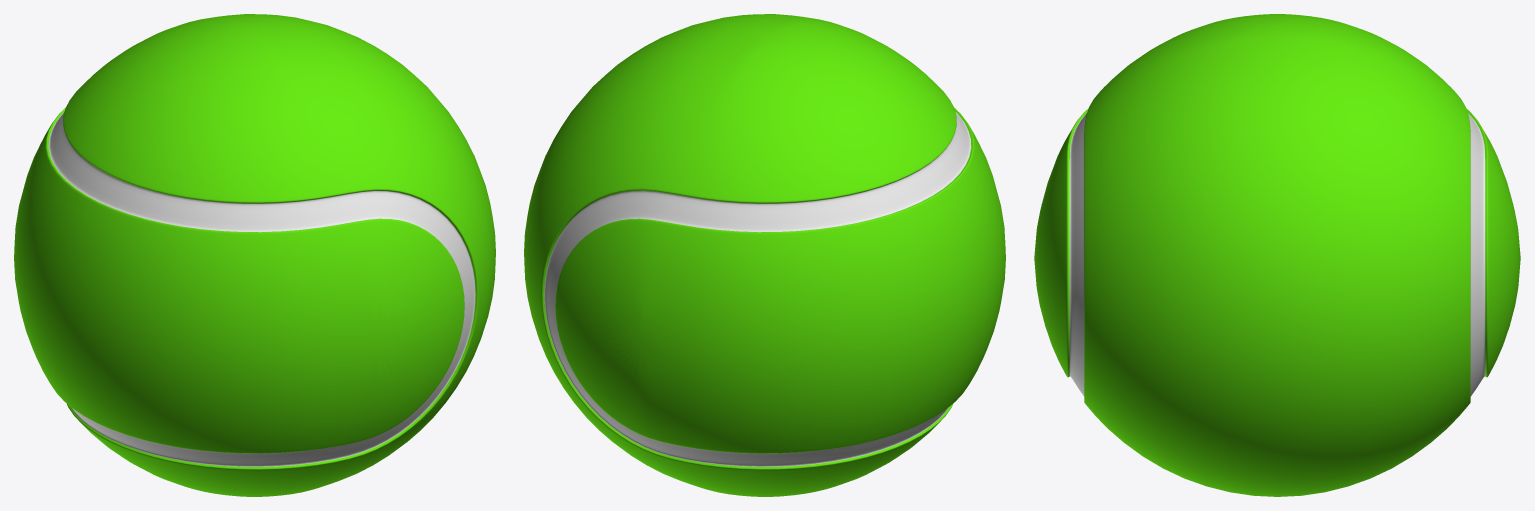
Rendered from Faur_Andrei-Catalin_proiect_TM.fbx.
The picture shows the model from 3 angles, left to right: view 1: azimuth 30°, elevation 25°; view 2: azimuth 150°, elevation 25°; view 3: azimuth 270°, elevation 25°; orthographic projection.
Parts seen in each view (by area): view 1: Sphere; view 2: Sphere; view 3: Sphere.
Boxes of the visible parts, x1,y1,x2,y2 form: Sphere: [14, 14, 495, 496]; Sphere: [524, 14, 1005, 496]; Sphere: [1034, 14, 1520, 496].
Bounding box in the file's own units: 197 × 199 × 199.
